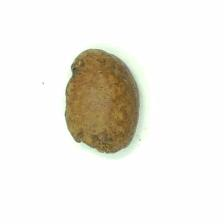NG: (62, 61, 85, 113), (74, 128, 113, 154)
